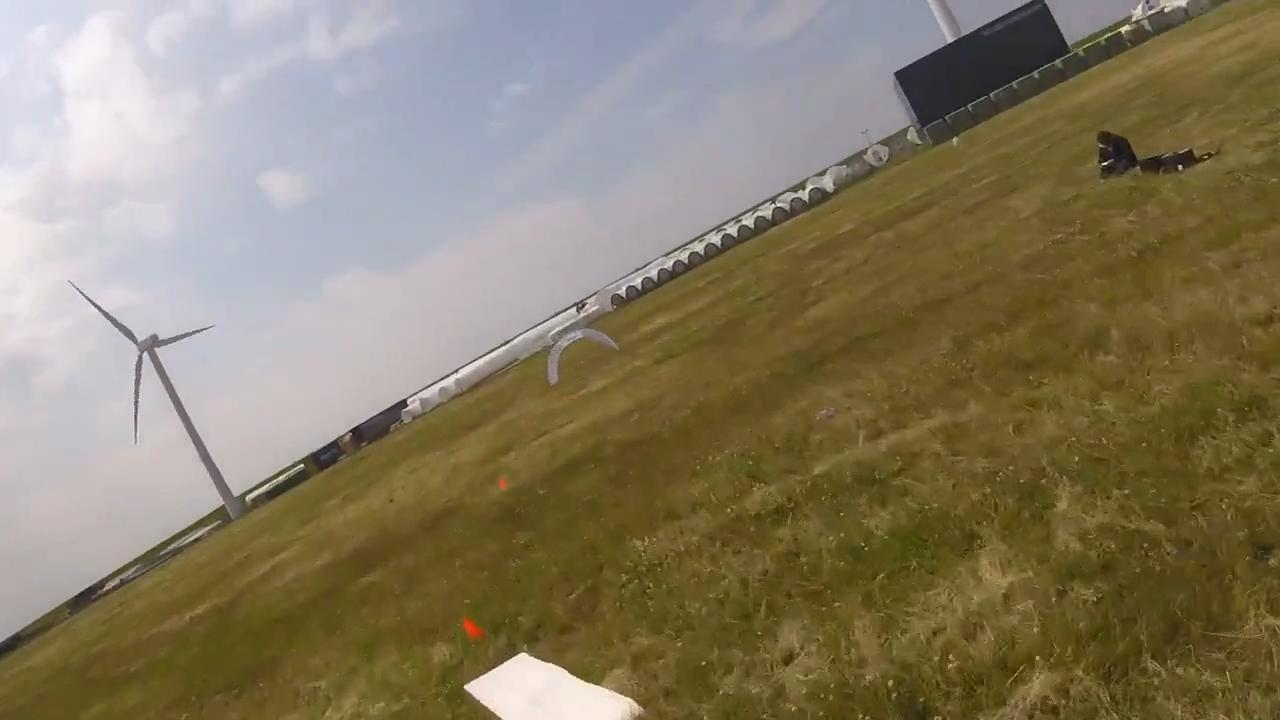gate: (545, 329, 617, 387)
